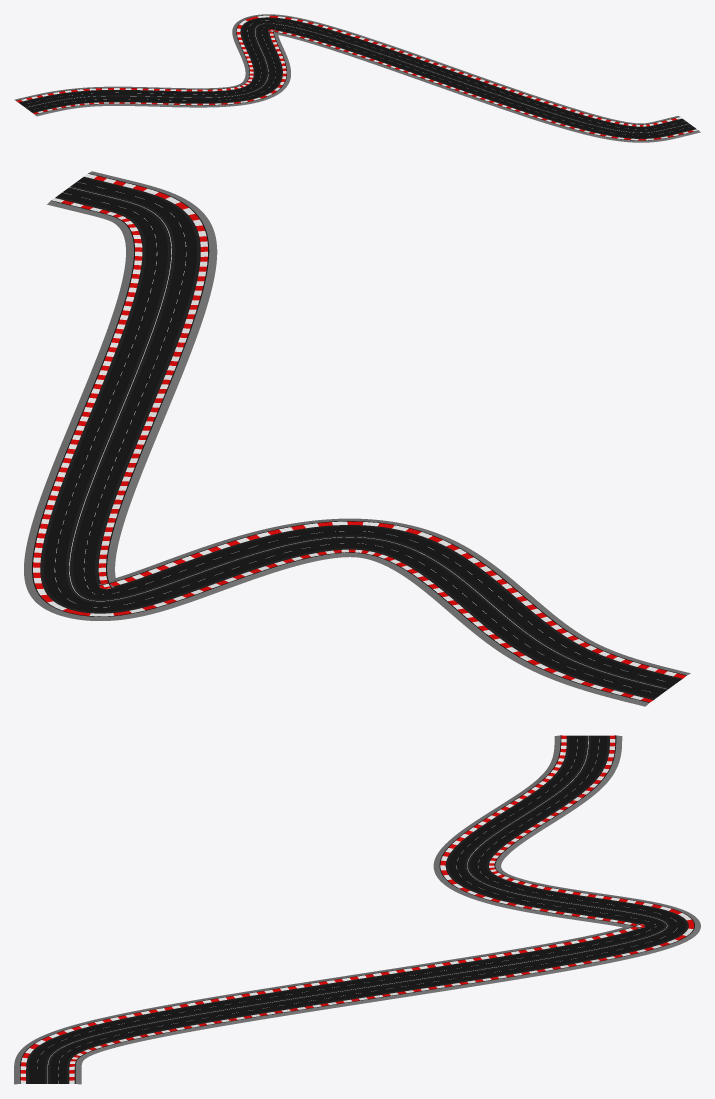
File: S0.2c2h0-ass3.glb
3 views of the same model, one above another, from view 1: azimuth 30°, elevation 25°; view 2: azimuth 150°, elevation 25°; view 3: azimuth 270°, elevation 25° (orthographic). The views are drawn at different scales.
Parts seen in each view (by area): view 1: Grid; view 2: Grid; view 3: Grid.
Boxes of the visible parts, x1,y1,x2,y2 form: Grid: (14, 14, 700, 142); Grid: (24, 171, 690, 706); Grid: (14, 735, 700, 1084).
Bounding box in the file's own units: 305 × 0.31 × 254.
